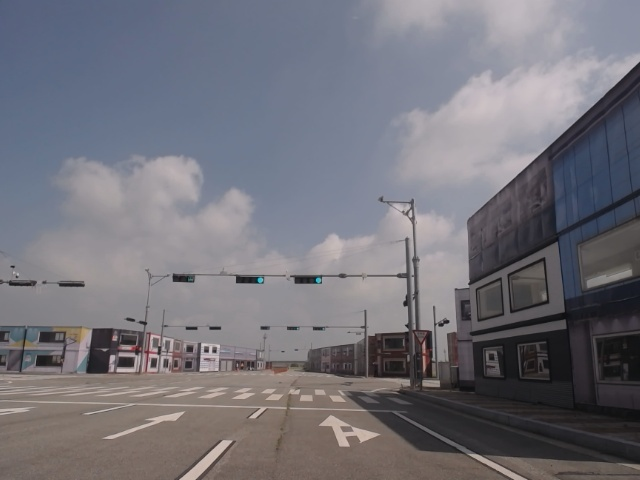straight_green_4: (237, 275, 265, 286), (295, 275, 321, 286)
